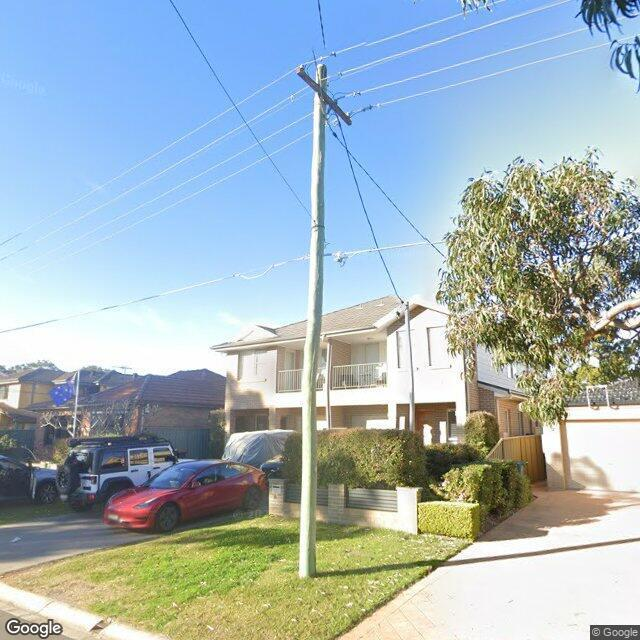crossarm: (296, 68, 352, 126)
steel-pole: (406, 301, 415, 432)
timber-pole: (299, 62, 327, 575)
